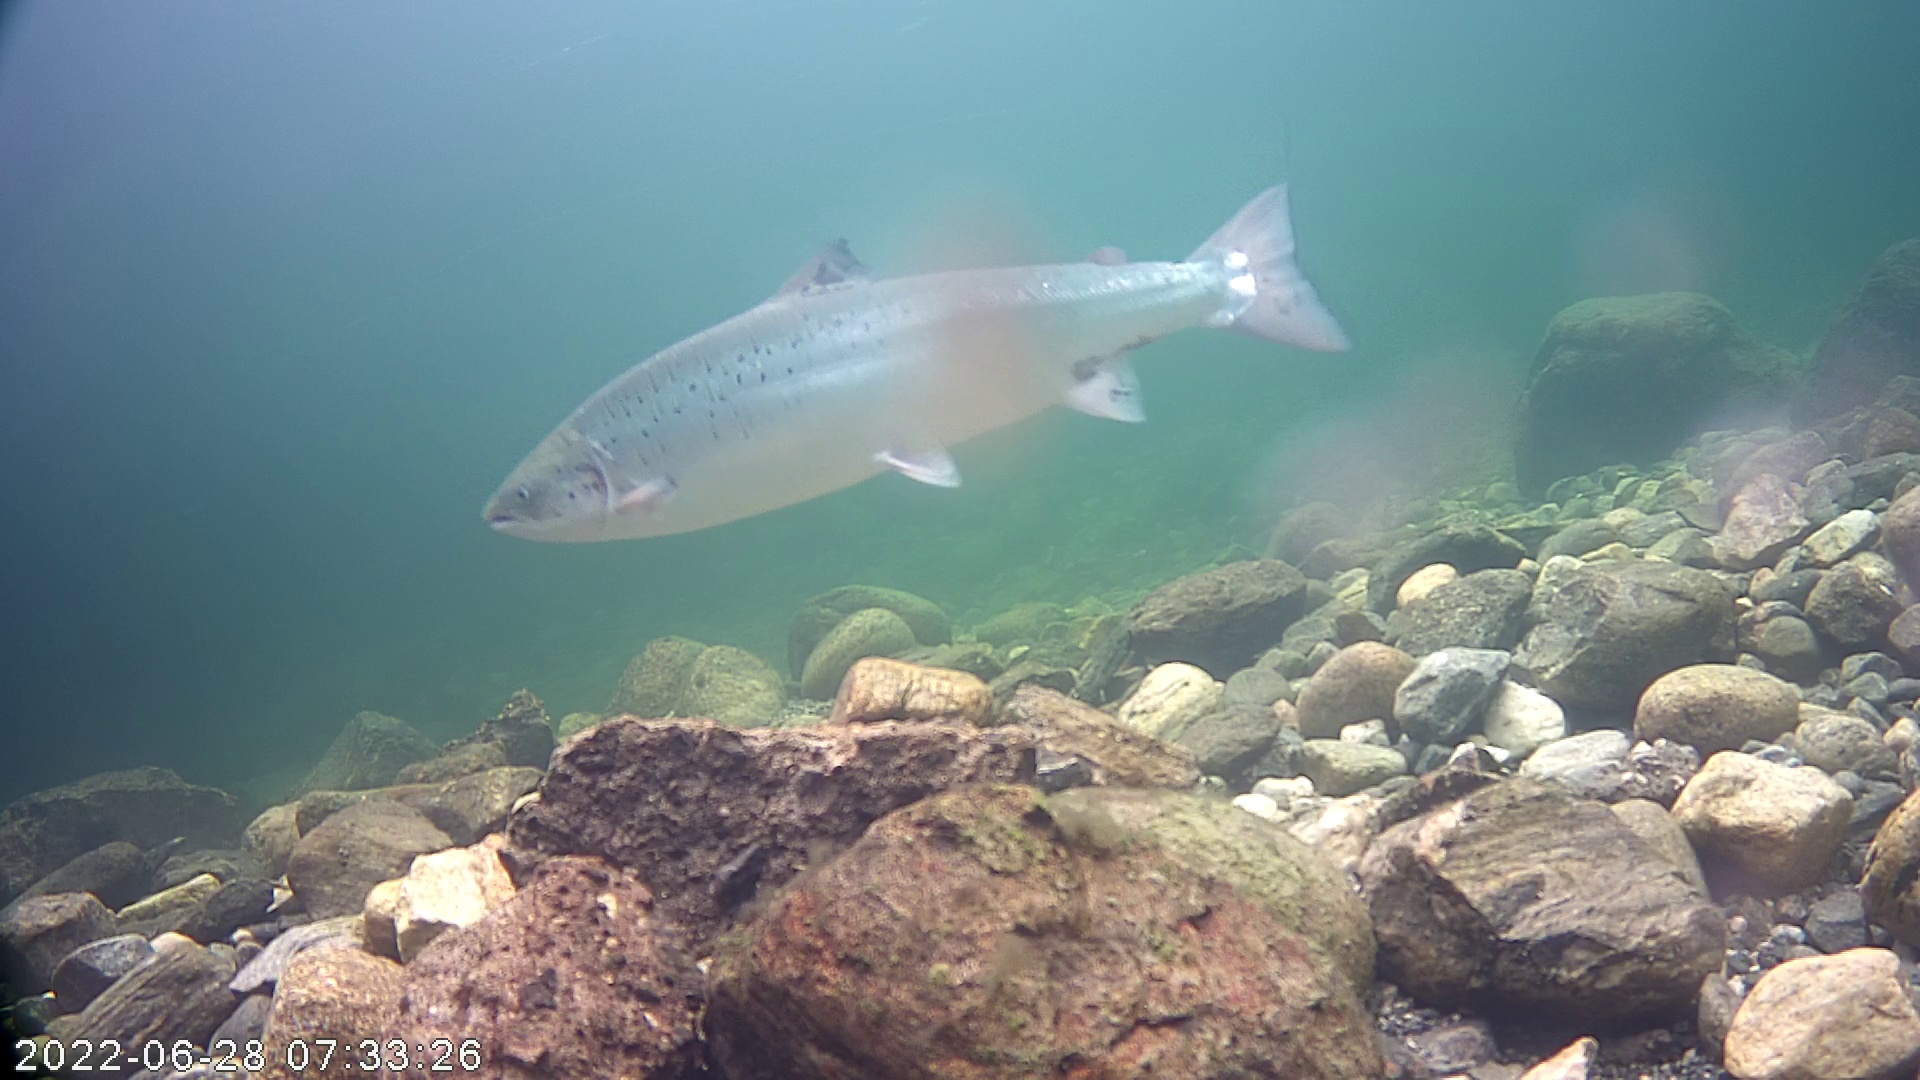salmon: (481, 131, 1369, 568)
